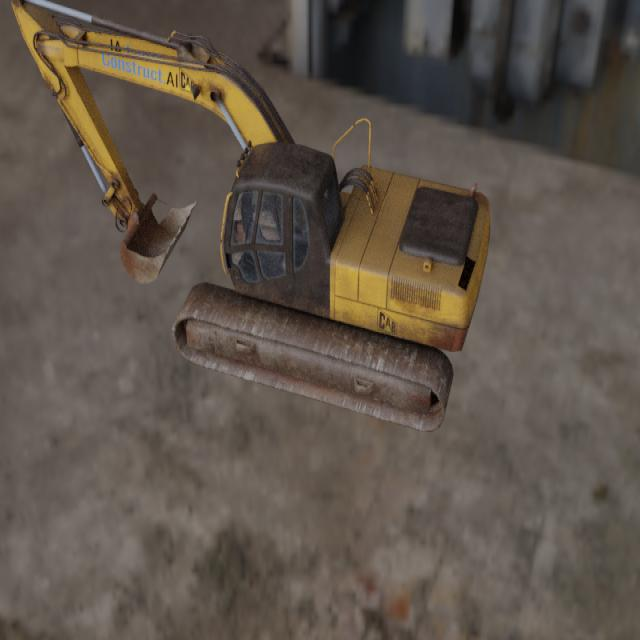excavator: (10, 0, 490, 433)
